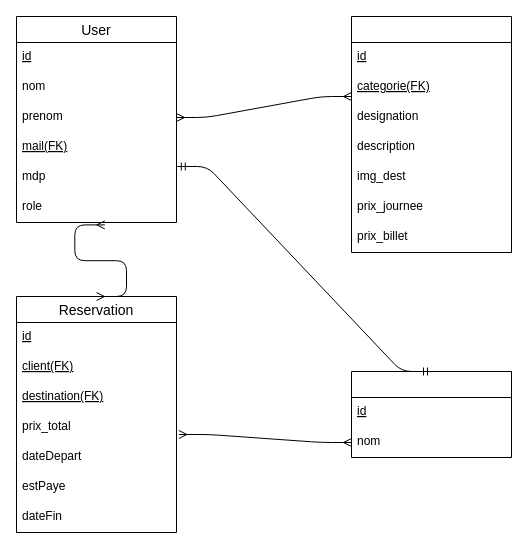
The diagram is 528 pixels wide and 549 high, and some of its shapes have lost their labels. The shapes that lost their labels are listed below. From the top down, each one's box as (x1, y1, x2, y2) in pixels, then its label:
(350, 16, 512, 252): Destination
(350, 370, 512, 458): Category
